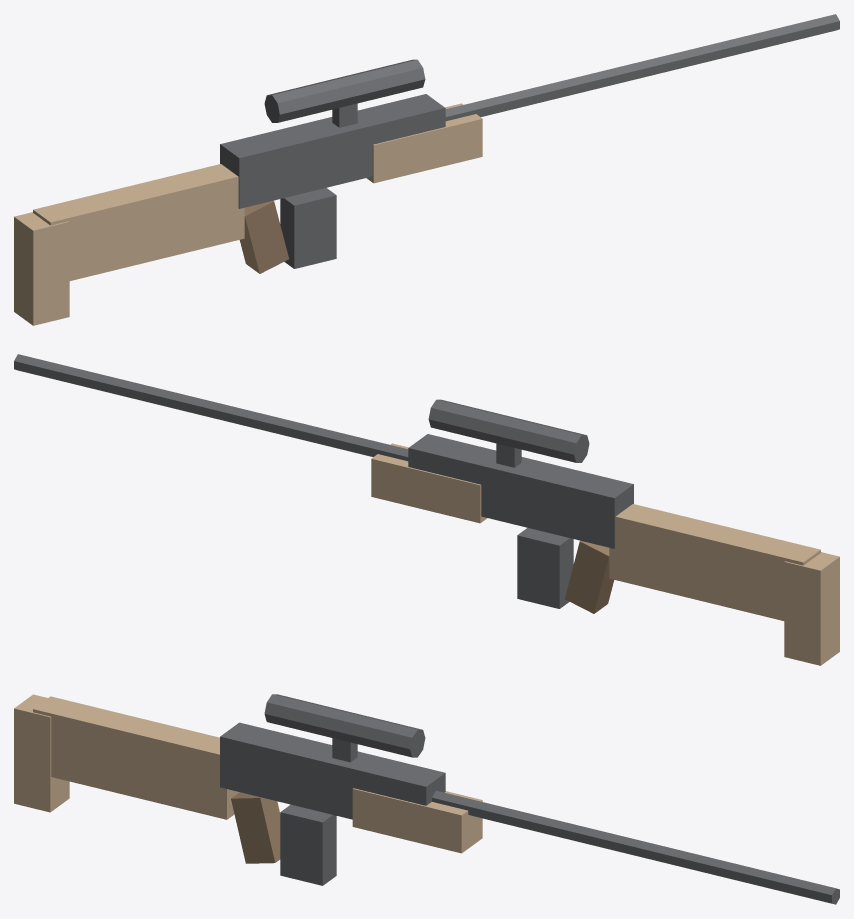
File: held_weapon_svd.glb
3 renders of one model, top to bottom at view 1: azimuth 30°, elevation 25°; view 2: azimuth 150°, elevation 25°; view 3: azimuth 330°, elevation 25°, orthographic.
Parts seen in each view (by area): view 1: held_weapon_svd; view 2: held_weapon_svd; view 3: held_weapon_svd.
Part boxes in pixels (left/top/right/bottom): held_weapon_svd: left=14, top=14, right=839, bottom=325; held_weapon_svd: left=14, top=354, right=839, bottom=665; held_weapon_svd: left=14, top=694, right=839, bottom=904.
Bounding box in the file's own units: 1.34 × 0.272 × 0.06.
